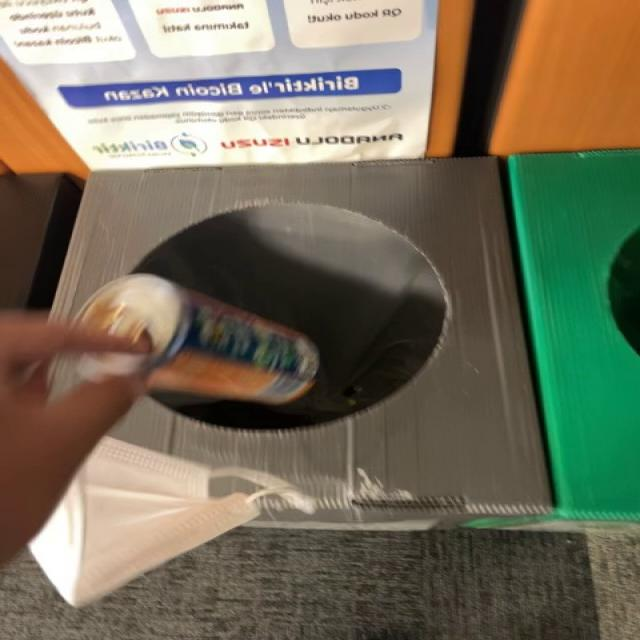bin: (52, 159, 551, 522)
metal: (73, 274, 319, 406)
